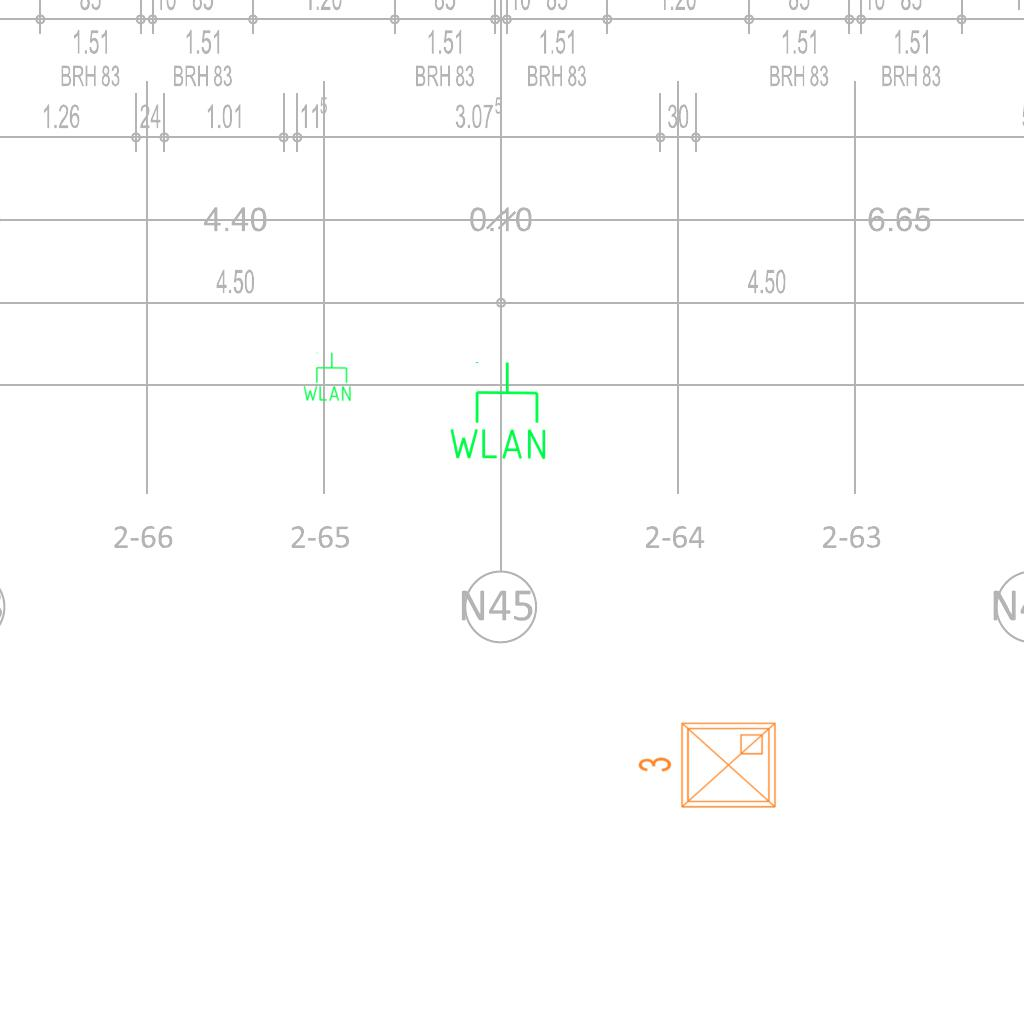Einbaudownlights_LED_Konferenzraeume: (633, 715, 783, 819)
WLAN: (445, 359, 550, 463), (301, 351, 353, 403)
